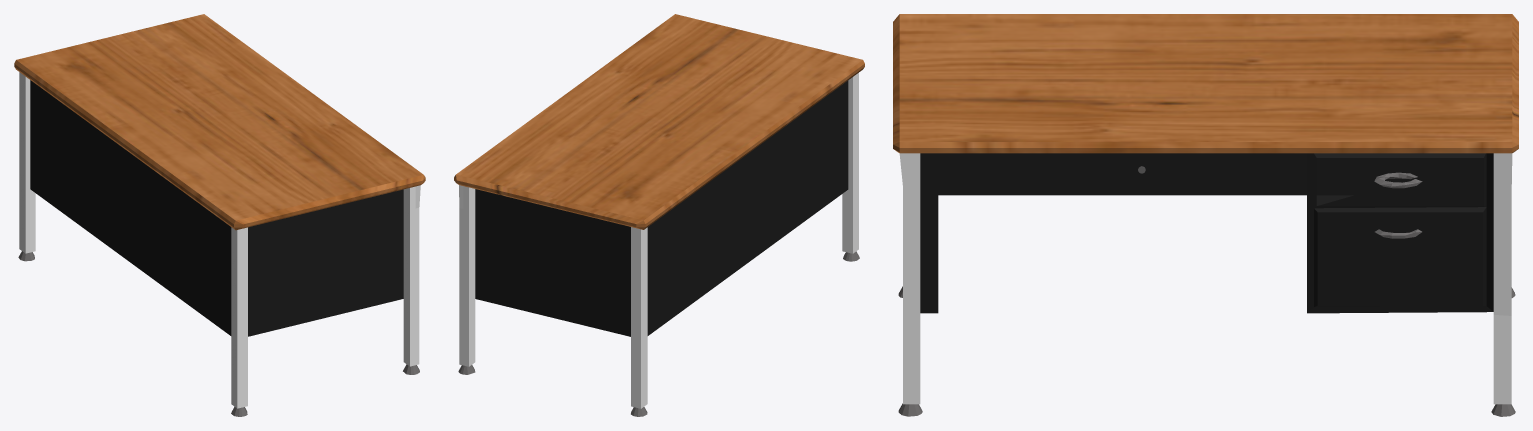
Rendered from T_desk.fbx.
3 views of the same model, side by side, from view 1: azimuth 30°, elevation 25°; view 2: azimuth 150°, elevation 25°; view 3: azimuth 270°, elevation 25° (orthographic). The views are drawn at different scales.
Parts seen in each view (by area): view 1: Object_0.003, Object_3.003, Object_2.003, Object_1.003; view 2: Object_0.003, Object_3.003, Object_2.003, Object_1.003; view 3: Object_0.003, Object_3.003, Object_2.003, Object_1.003.
Part boxes in pixels (box(x1,y1,x2,y2)): Object_0.003: box(14, 14, 425, 230); Object_3.003: box(30, 80, 403, 336); Object_2.003: box(19, 72, 420, 408); Object_1.003: box(18, 251, 419, 416); Object_0.003: box(454, 14, 864, 229); Object_3.003: box(475, 80, 848, 336); Object_2.003: box(459, 73, 858, 408); Object_1.003: box(458, 251, 859, 416); Object_0.003: box(893, 14, 1518, 153); Object_3.003: box(920, 153, 1493, 313); Object_2.003: box(899, 153, 1512, 404); Object_1.003: box(898, 166, 1515, 416).
Bounding box in the file's own units: 566 × 556 × 1146.
4 materials, 1 textured.
